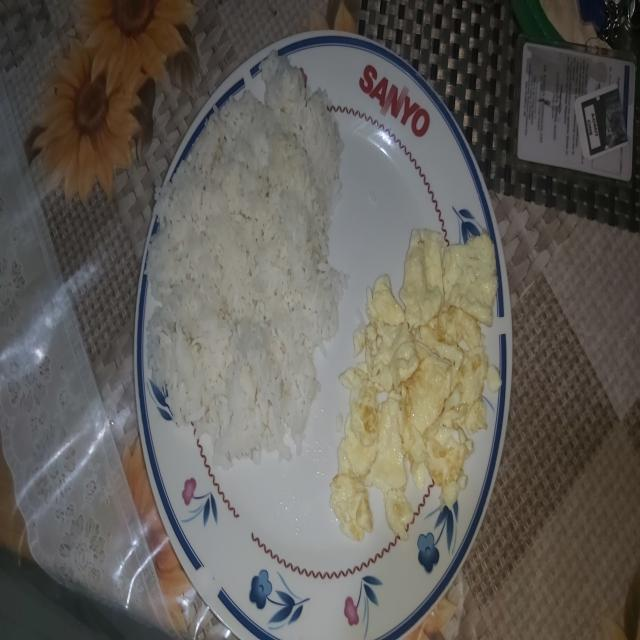Chicken -Chicken Inasal-: (155, 58, 335, 460)
